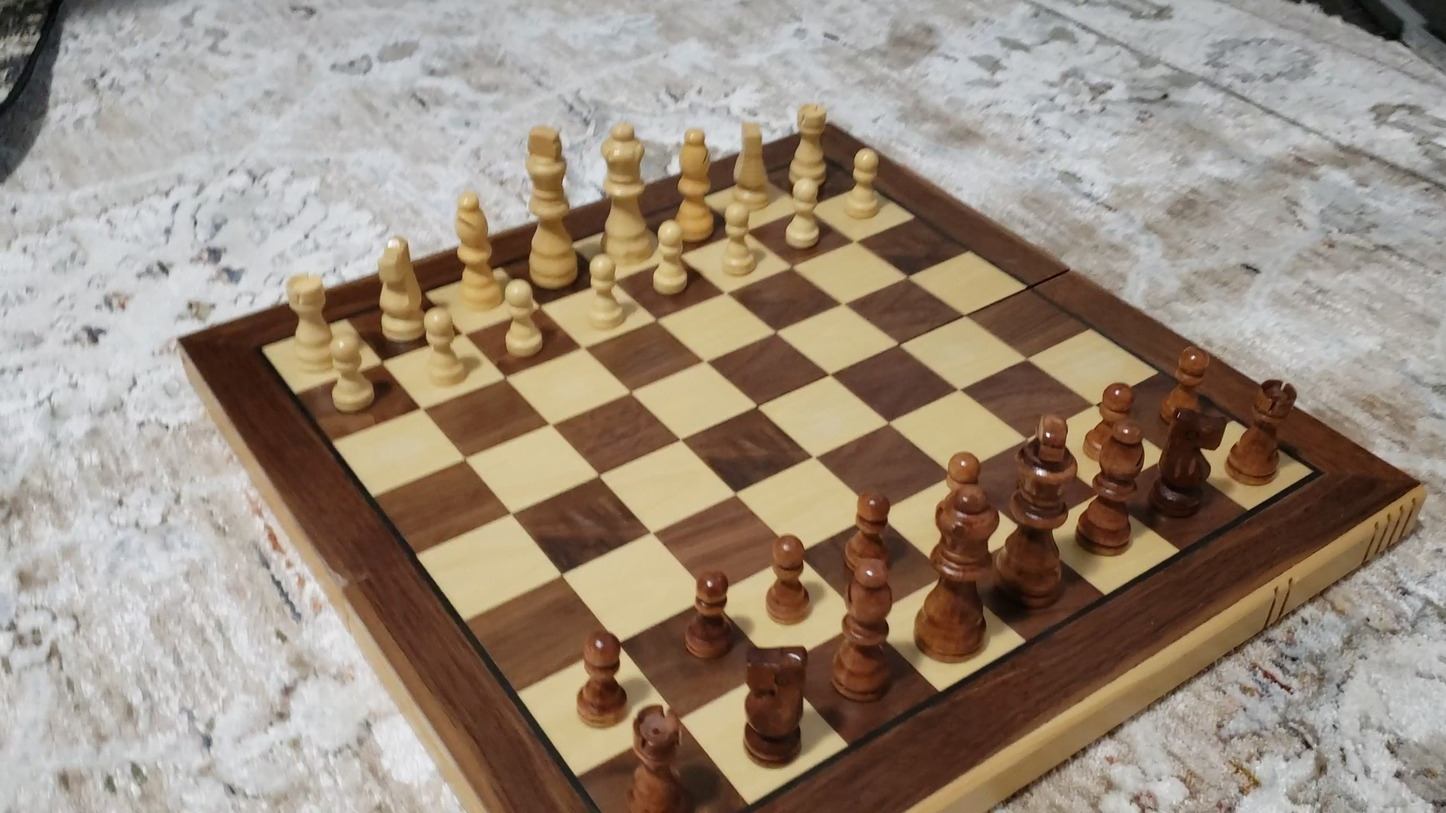black-bishop: (1077, 422, 1150, 556), (834, 548, 896, 704)
black-king: (999, 406, 1080, 619)
black-knight: (1148, 388, 1228, 529), (740, 643, 808, 766)
black-pawn: (573, 626, 628, 730), (842, 486, 895, 587), (1158, 342, 1214, 434), (1082, 378, 1137, 470), (682, 569, 735, 662), (935, 446, 988, 539), (764, 530, 812, 627)
black-queen: (912, 484, 1003, 666)
black-rook: (1227, 378, 1299, 485), (626, 703, 687, 810)
white-bishop: (451, 187, 500, 313), (673, 125, 715, 244)
white-king: (523, 117, 577, 290)
white-knight: (373, 234, 426, 347), (733, 112, 770, 211)
white-pawn: (321, 326, 383, 419), (417, 303, 471, 391), (496, 274, 549, 363), (580, 249, 633, 336), (711, 193, 762, 283), (838, 142, 890, 226), (644, 217, 695, 301), (779, 172, 827, 256)
white-queen: (598, 119, 651, 265)
white-rook: (282, 270, 336, 375), (789, 98, 831, 198)
